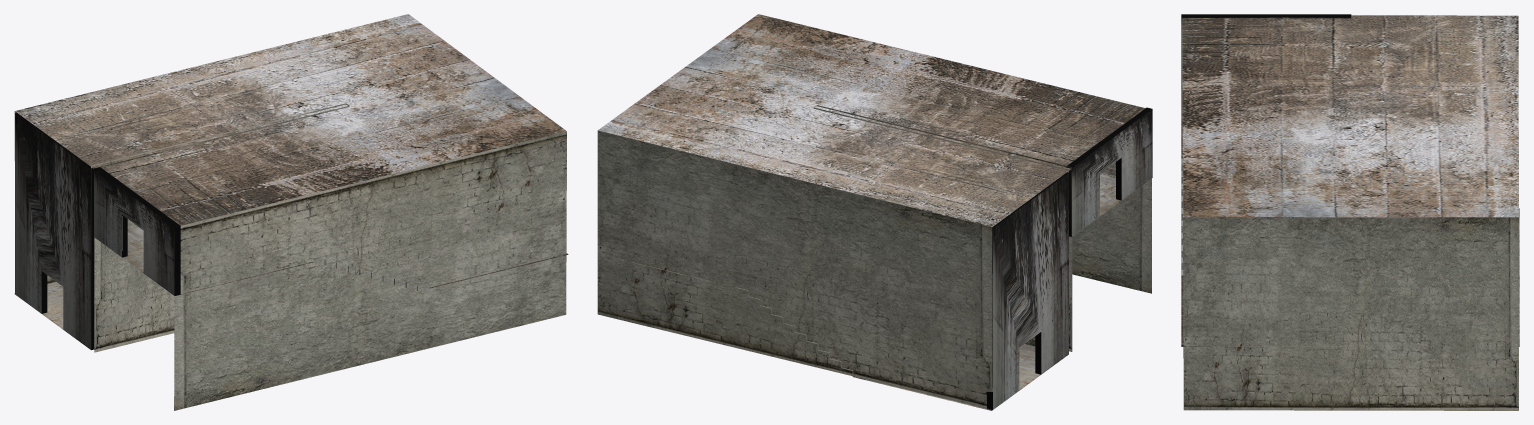
File: stairwell.fbx
The picture shows the model from 3 angles, left to right: view 1: azimuth 30°, elevation 25°; view 2: azimuth 150°, elevation 25°; view 3: azimuth 270°, elevation 25°; orthographic projection. The views are drawn at different scales.
Parts seen in each view (by area): view 1: hallway_wall2; view 2: hallway_wall2; view 3: hallway_wall2.
Boxes of the visible parts, bbox=[...] form: hallway_wall2: bbox=[14, 14, 568, 410]; hallway_wall2: bbox=[597, 14, 1152, 410]; hallway_wall2: bbox=[1181, 14, 1519, 410].
Size of the model in its own units: 68.01 by 30.45 by 48.
